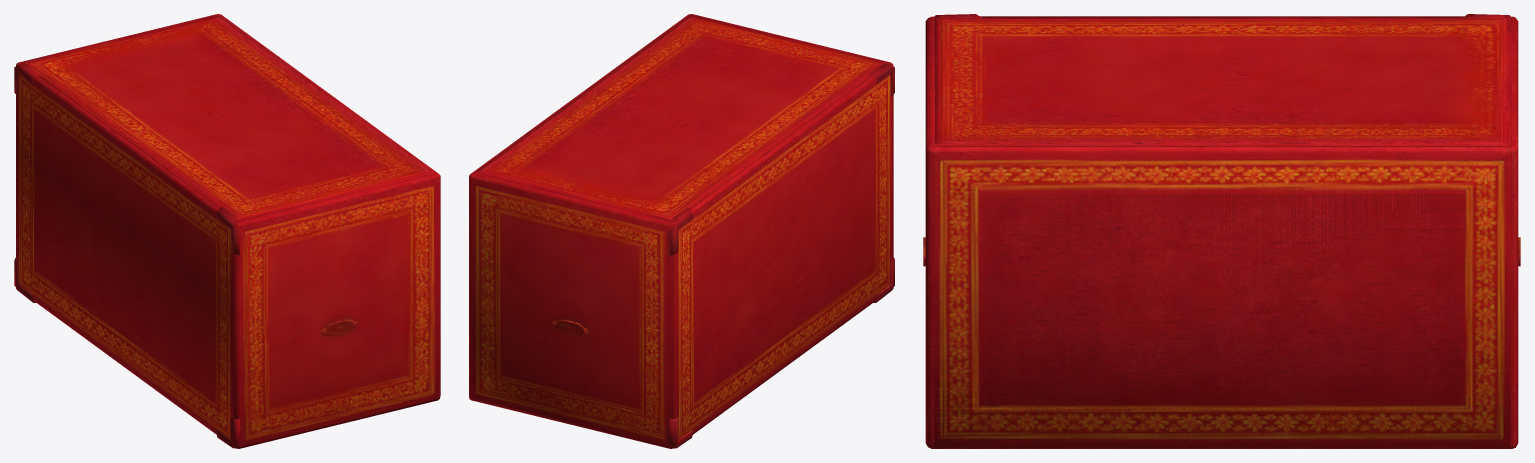
Rendered from tapis_rouge_rate_bloc.glb.
3 renders of one model, left to right at view 1: azimuth 30°, elevation 25°; view 2: azimuth 150°, elevation 25°; view 3: azimuth 270°, elevation 25°, orthographic. The views are drawn at different scales.
Visible parts, largest first — view 1: tripo_node_923d8514-4ee4-4cb8-b724-cc0b18ed3686; view 2: tripo_node_923d8514-4ee4-4cb8-b724-cc0b18ed3686; view 3: tripo_node_923d8514-4ee4-4cb8-b724-cc0b18ed3686.
Part boxes in pixels (box(x1,y1,x2,y2)): tripo_node_923d8514-4ee4-4cb8-b724-cc0b18ed3686: box(14, 14, 440, 448); tripo_node_923d8514-4ee4-4cb8-b724-cc0b18ed3686: box(469, 14, 894, 448); tripo_node_923d8514-4ee4-4cb8-b724-cc0b18ed3686: box(923, 14, 1520, 448).
Bounding box in the file's own units: 0.5332 × 0.5605 × 0.998.
1 material, 1 textured.
